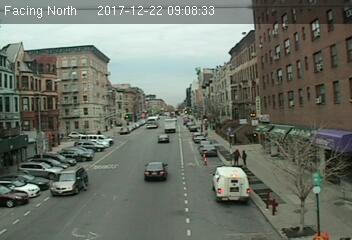car: (49, 165, 88, 194), (144, 161, 168, 180), (200, 144, 217, 155), (157, 133, 169, 143)
pedestrian: (232, 147, 240, 165), (240, 149, 247, 164)
truck: (213, 165, 253, 203), (164, 118, 176, 132)
